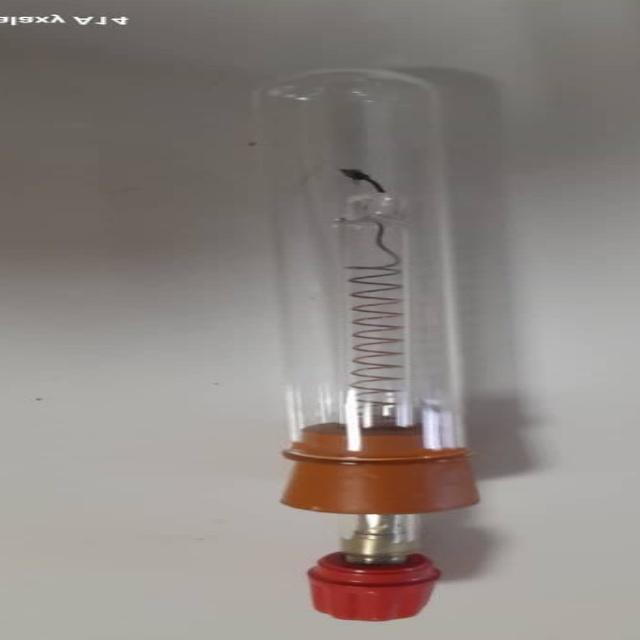Electrode: (202, 53, 510, 624)
